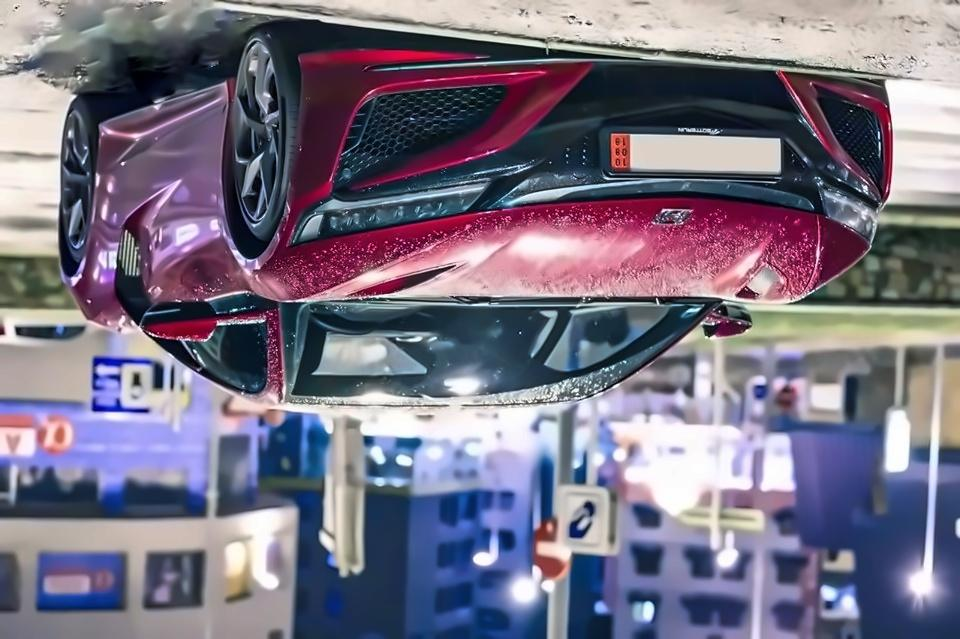Car hood: (266, 192, 877, 304)
Fender - -F-L-: (220, 78, 334, 302)
Front bumper: (290, 40, 908, 199)
Headlight - -L-: (282, 172, 506, 250)
Headlight - -R-: (772, 162, 915, 251)
Passenger-s door - -F-L-: (130, 104, 281, 389)
Side bumper - -L-: (86, 71, 250, 131)
Side mirror - -L-: (136, 288, 281, 359)
Side mirror - -R-: (688, 291, 780, 358)
